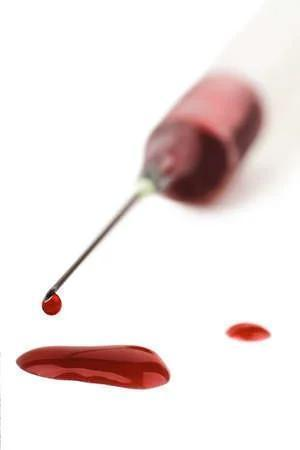Fire: (145, 74, 262, 204), (16, 347, 170, 390), (227, 324, 271, 342), (42, 289, 62, 316)
